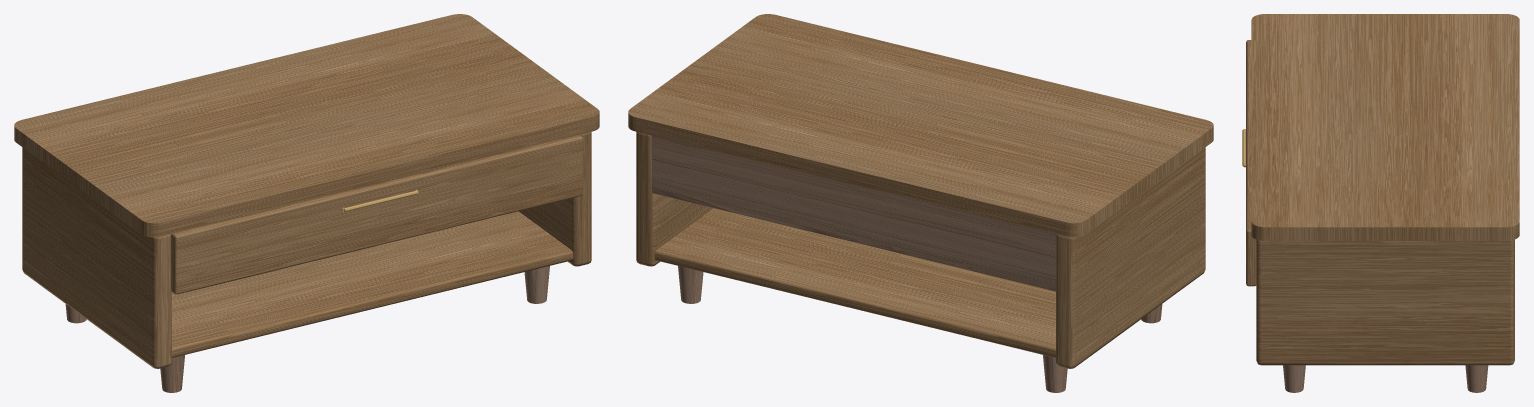
Rendered from table-material.glb.
3 views of the same model, side by side, from view 1: azimuth 30°, elevation 25°; view 2: azimuth 150°, elevation 25°; view 3: azimuth 270°, elevation 25° (orthographic). The views are drawn at different scales.
Visible parts, largest first — view 1: table-material; view 2: table-material; view 3: table-material.
Boxes of the visible parts, box(x1,y1,x2,y2) form: table-material: box(14, 14, 599, 392); table-material: box(628, 14, 1213, 392); table-material: box(1242, 14, 1519, 392).
Bounding box in the file's own units: 1 × 0.4 × 0.55.
4 materials, 2 textured.
